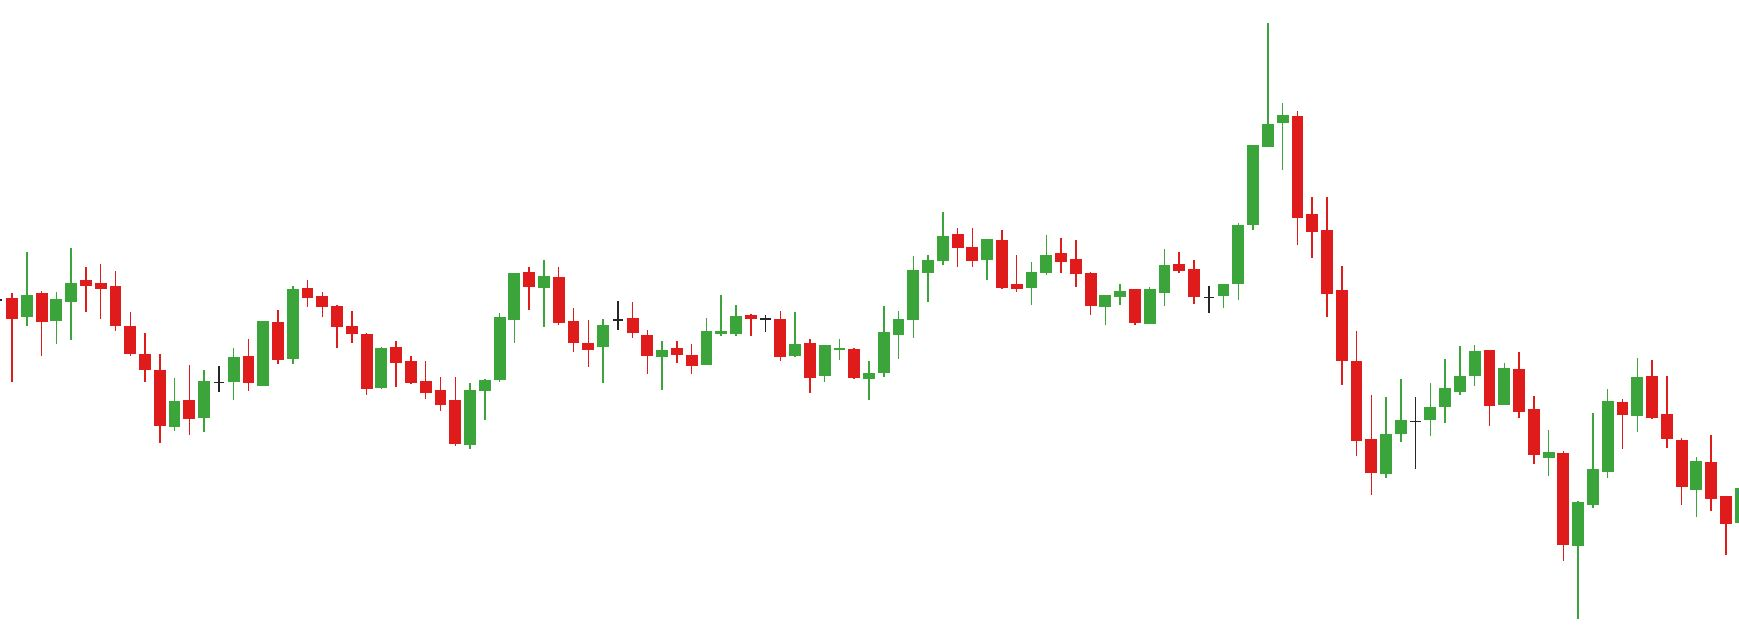buy: (653, 328, 834, 394)
sell: (304, 266, 533, 370)
